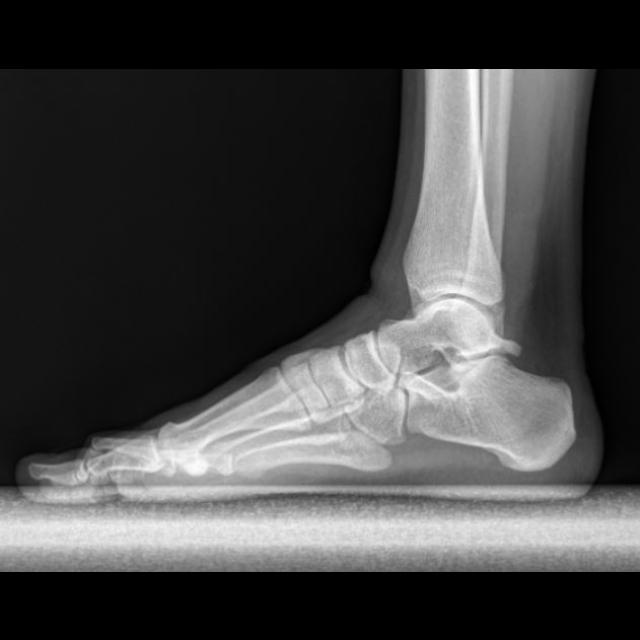a: (406, 354, 575, 469)
b: (341, 331, 396, 390)
c: (156, 368, 305, 460)
